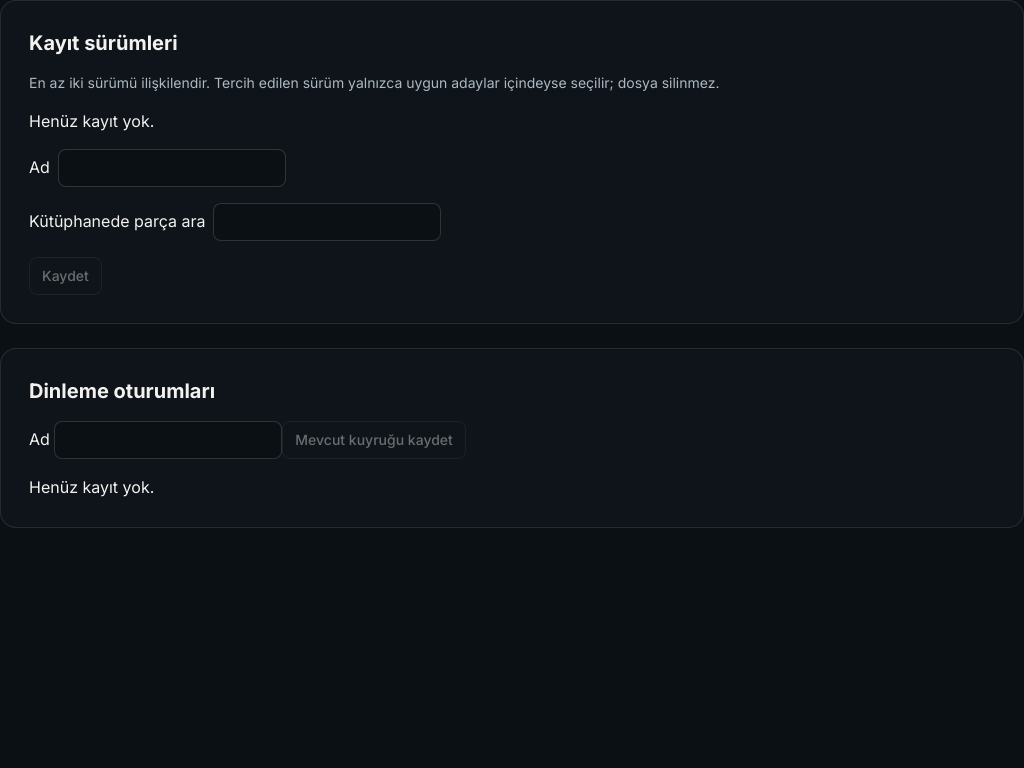
Test: Music Studio › uses bounded real search parameters in profile and hides unrelated results
The width and height of the screenshot is (1024, 768).
Type "S" into the field labelled "Kütüphanede parça ara" at (328, 222), box top-left (214, 203), bottom-right (442, 241)
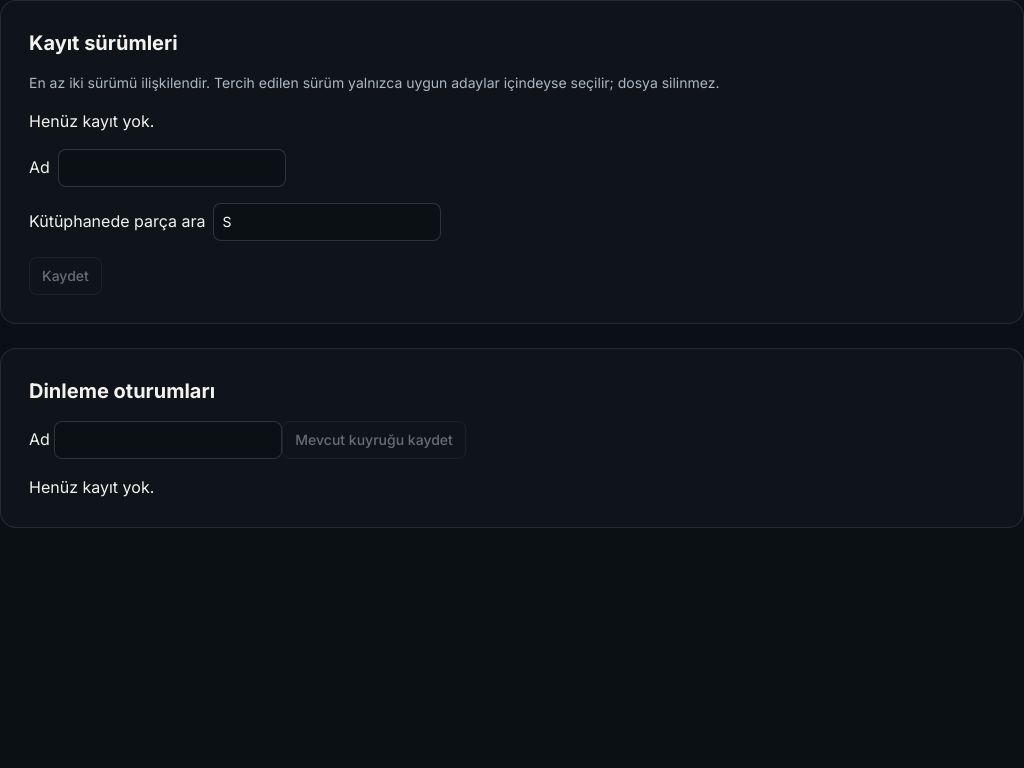
Replace the text in the field labelled "Kütüphanede parça ara" with "Sm" at (328, 222), box top-left (214, 203), bottom-right (442, 241)
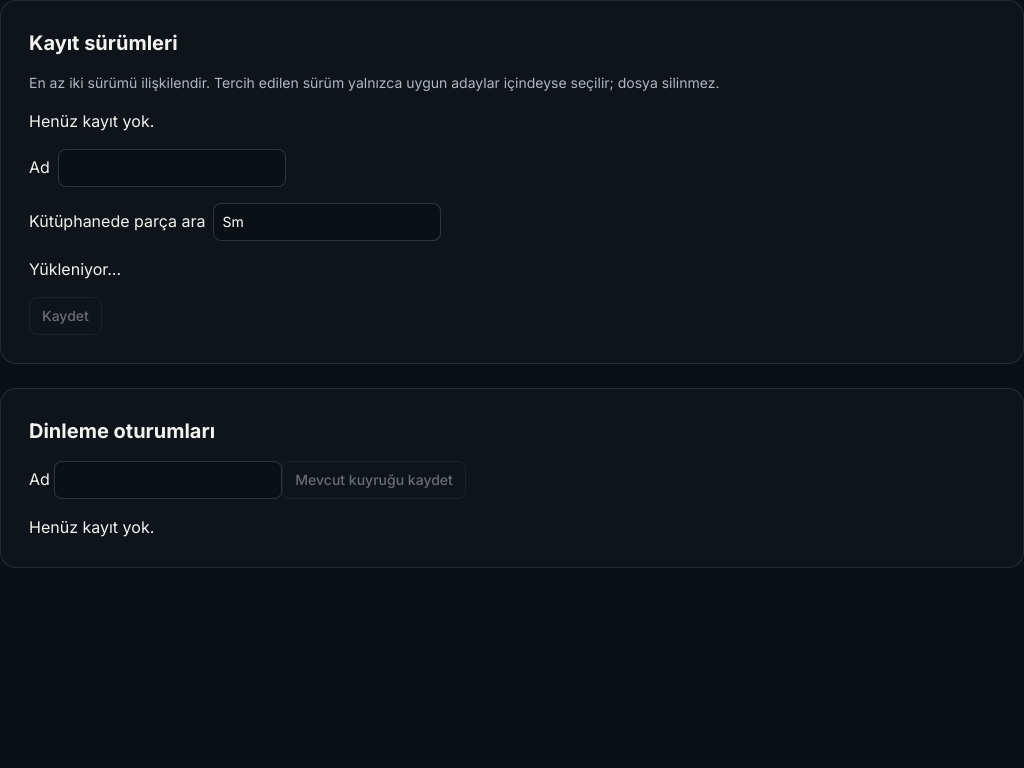
Replace the text in the field labelled "Kütüphanede parça ara" with " Smoke " at (328, 222), box top-left (214, 203), bottom-right (442, 241)
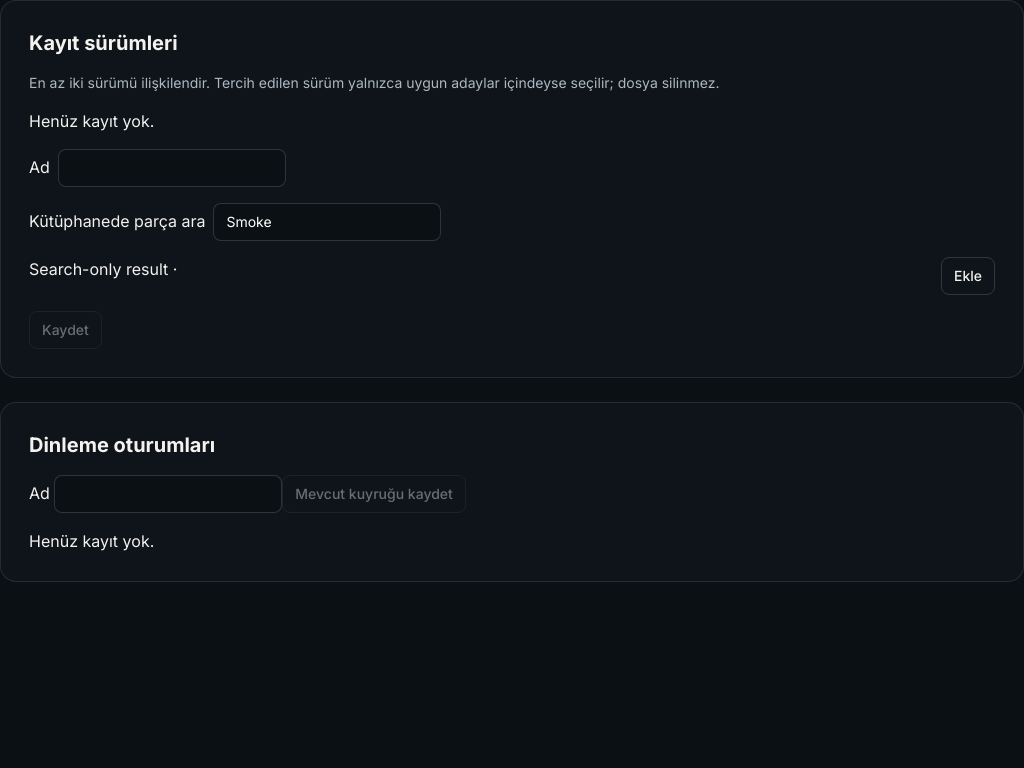
Now the text "Search-only result" is shown, box top-left (29, 259), bottom-right (168, 279)
Replace the text in the field labelled "Kütüphanede parça ara" with "No matches" at (328, 222), box top-left (214, 203), bottom-right (442, 241)
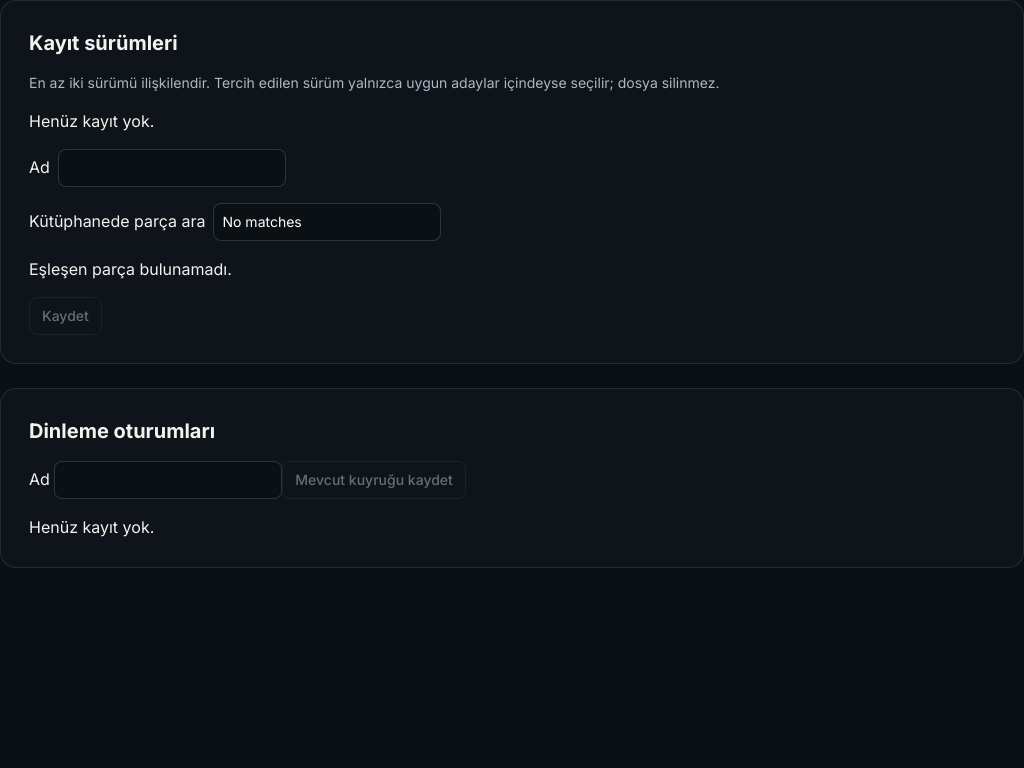
Now the text "Search-only result" is gone
Now the text "Eşleşen parça bulunamadı." is shown, box top-left (29, 259), bottom-right (232, 279)
